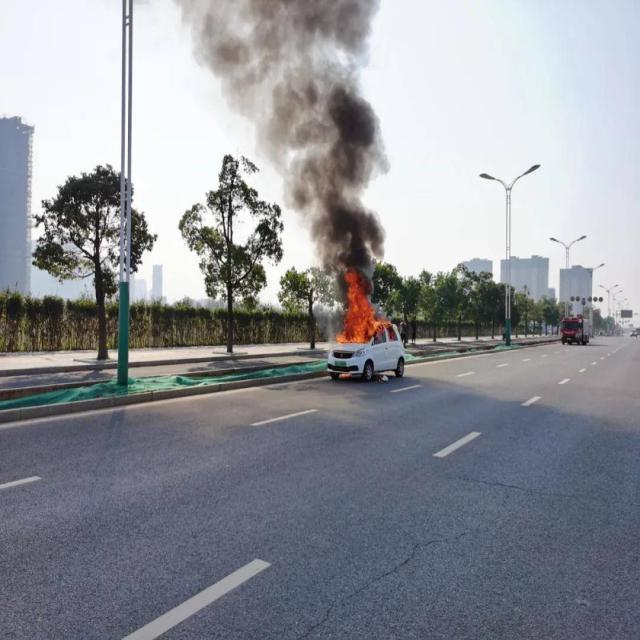fire: (336, 270, 373, 343)
